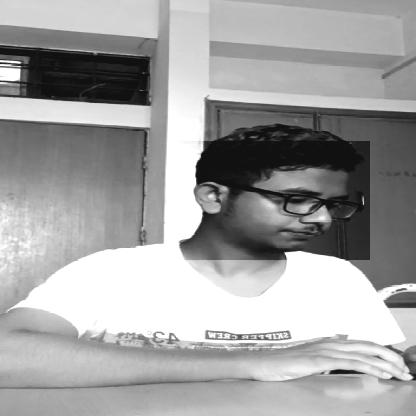Distracted: (177, 141, 370, 260)
